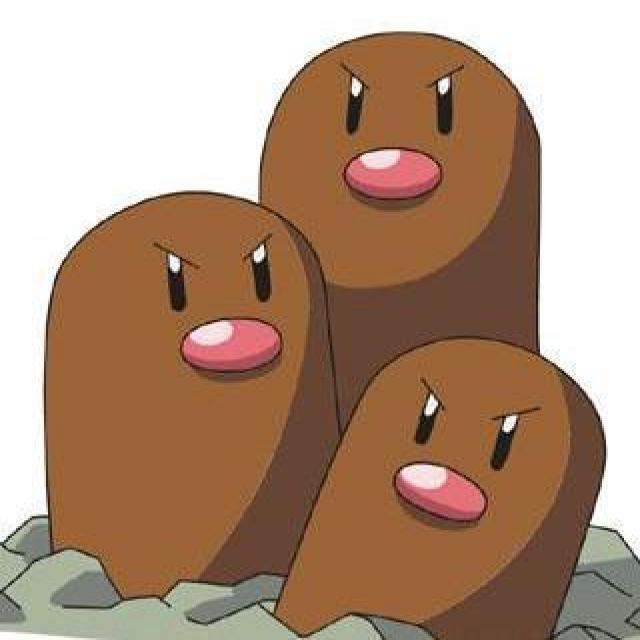Dugtrio: (43, 24, 591, 640)
